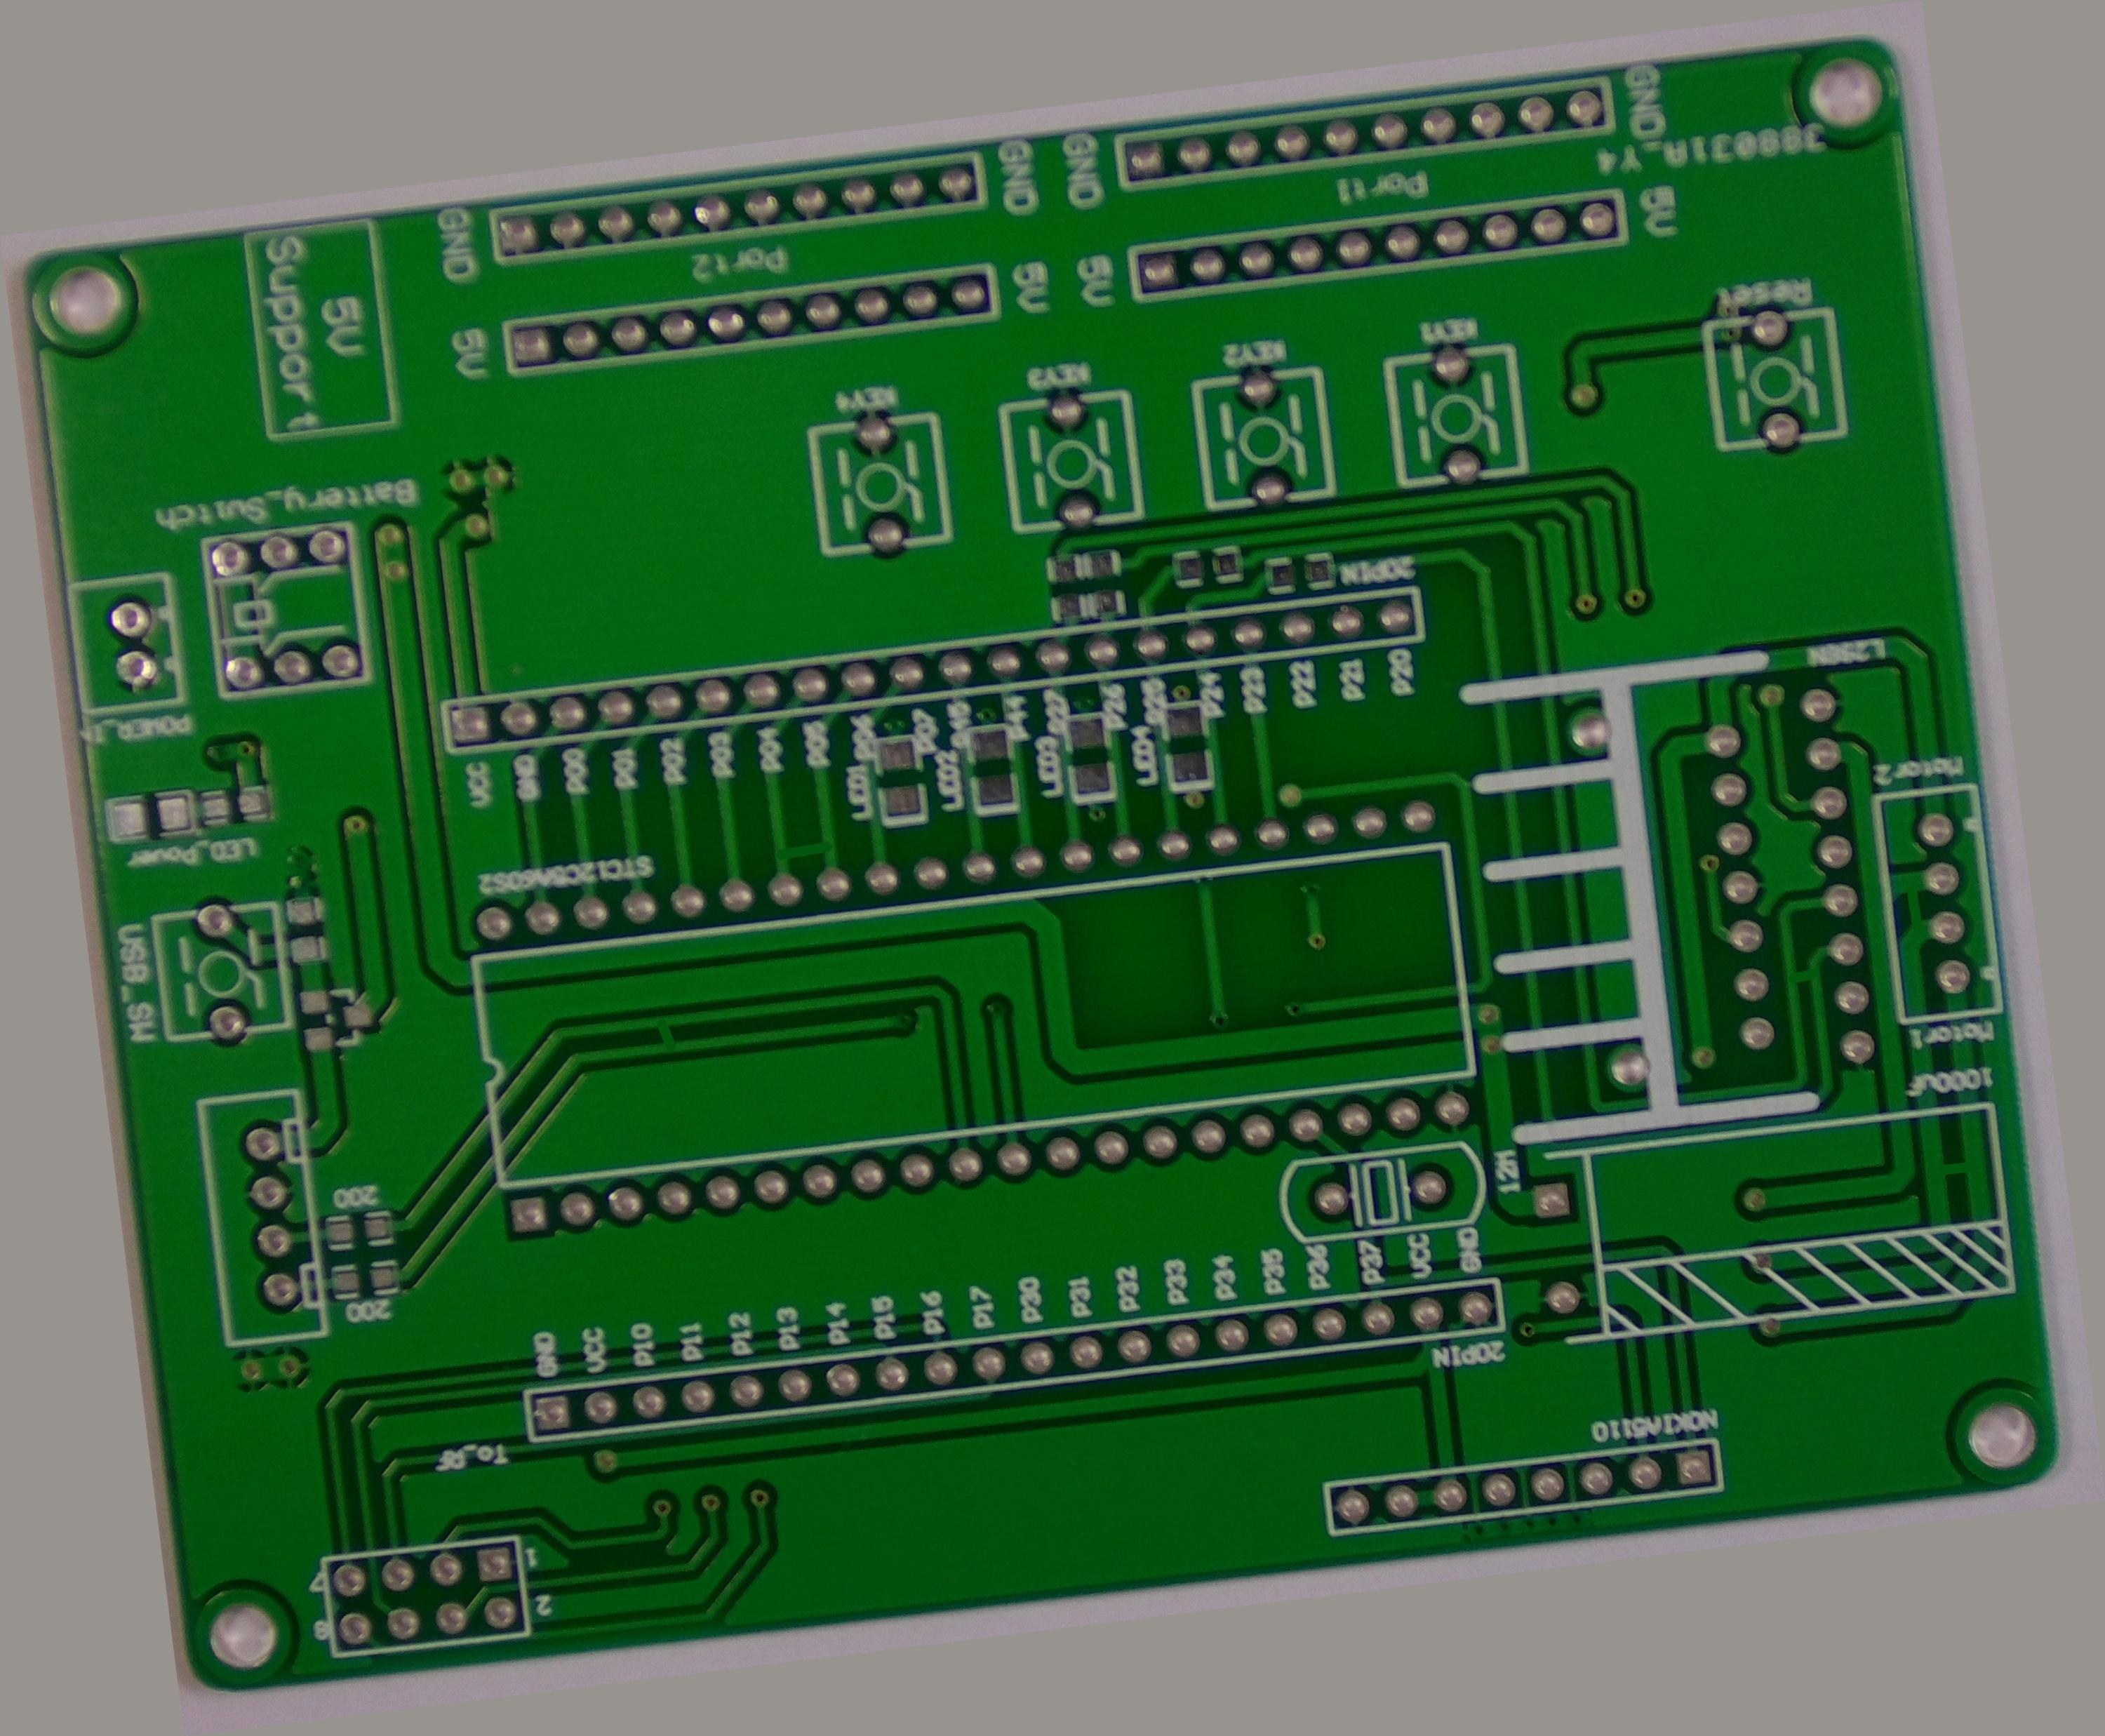short: (740, 778, 834, 860), (1949, 1308, 2026, 1374), (1948, 995, 2012, 1068), (577, 972, 640, 1037), (1822, 1068, 1872, 1124)
